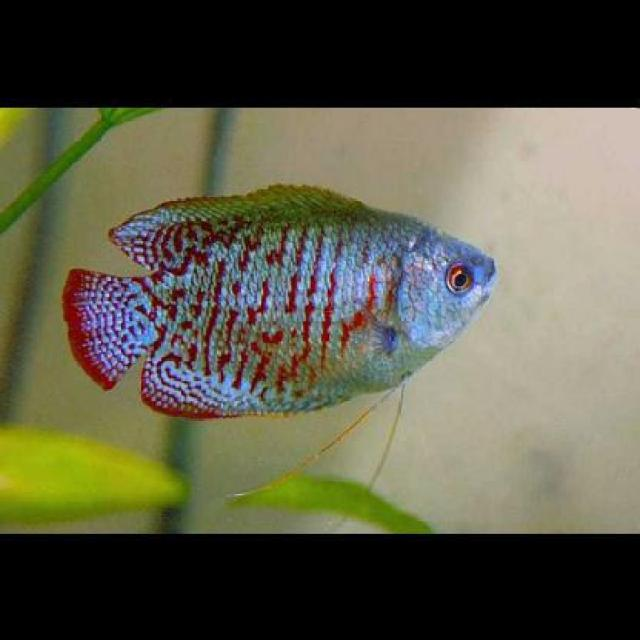Gourami: (59, 176, 498, 424)
